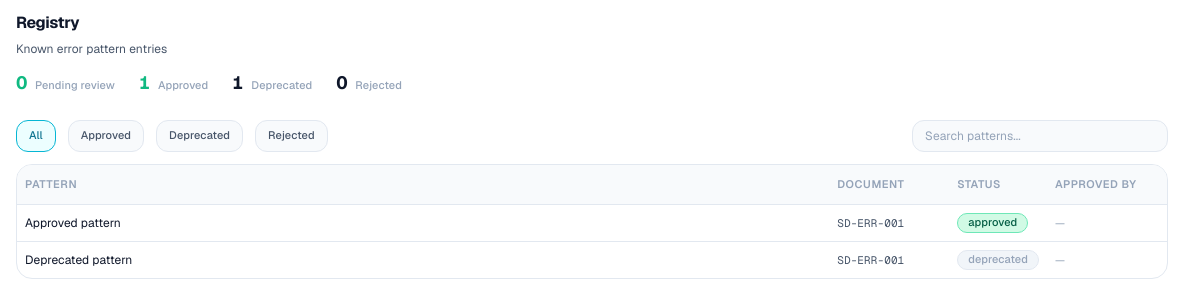
Test case: AdminRegistryPage › filters the non-pending table by status
This screenshot has width=1185, height=296.
Click the button "Deprecated". click: [200, 136]
box: [156, 120, 243, 152]
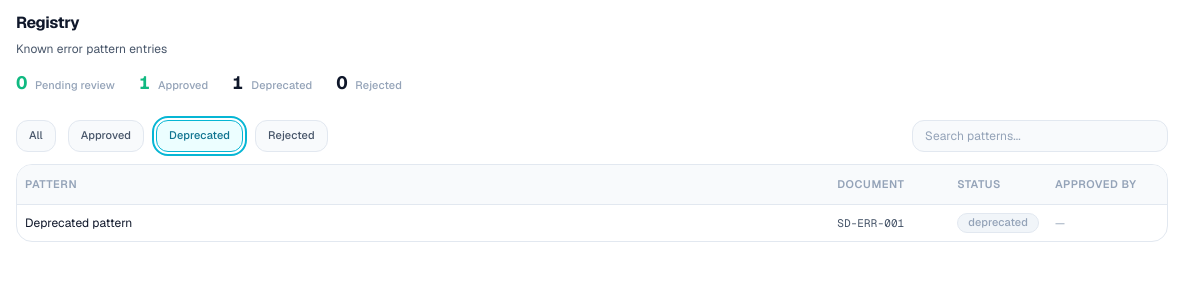
Expected: the text "Deprecated pattern" is shown, [25, 215, 132, 231]
Result: the text "Approved pattern" is gone
